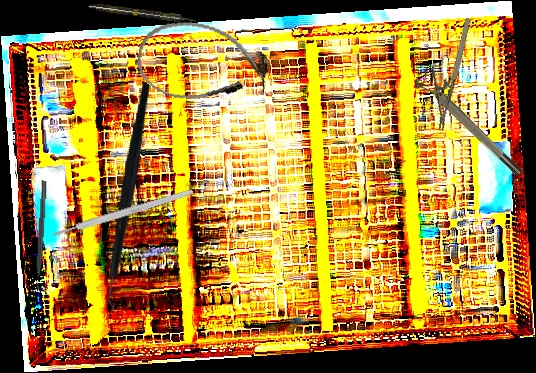Cannula: (132, 14, 274, 113)
Chopper: (34, 80, 229, 317)
Fixation Ring: (412, 69, 525, 183), (29, 180, 54, 294)
Handpiece: (87, 1, 198, 26)
Needle Holder: (415, 12, 475, 132)
Scalpel Handle: (52, 187, 194, 239)
